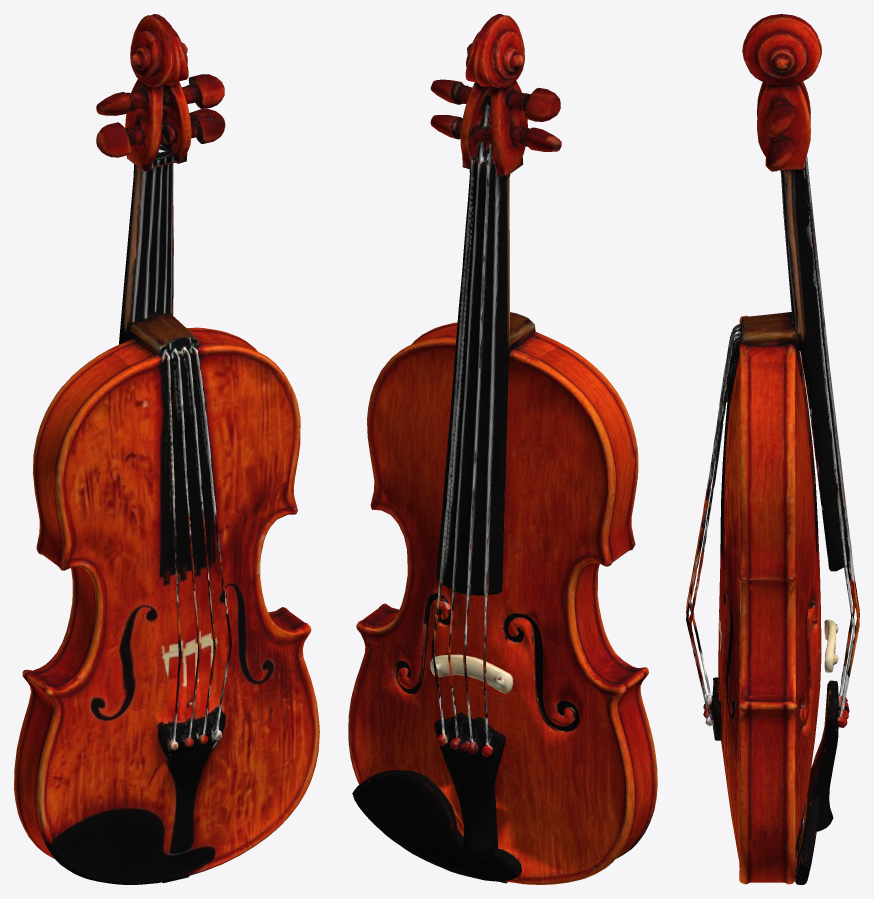
Rendered from violin.glb.
3 renders of one model, left to right at view 1: azimuth 30°, elevation 25°; view 2: azimuth 150°, elevation 25°; view 3: azimuth 270°, elevation 25°, orthographic.
Visible parts, largest first — view 1: mesh; view 2: mesh; view 3: mesh.
Part boxes in pixels (left/top/right/bottom): mesh: left=14, top=14, right=319, bottom=884; mesh: left=348, top=14, right=657, bottom=884; mesh: left=686, top=14, right=859, bottom=884.
Size of the model in its own units: 0.344 by 1 by 0.1841.
Materials: 1 (1 with a texture image).
